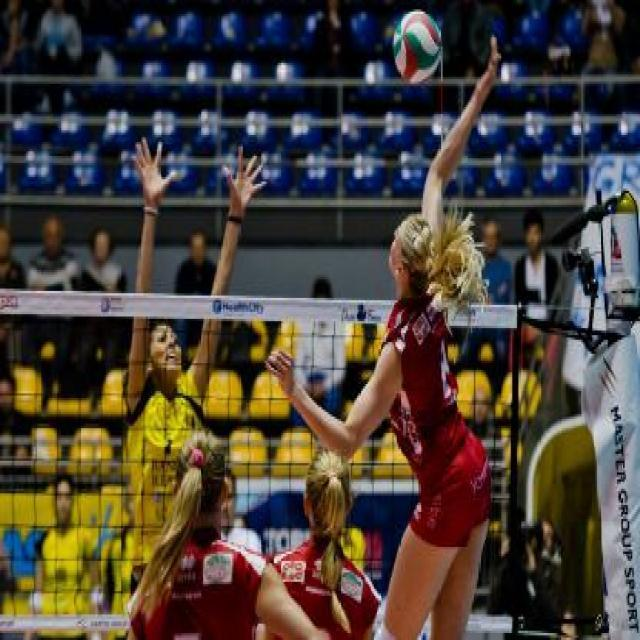volleyball: (393, 12, 441, 82)
